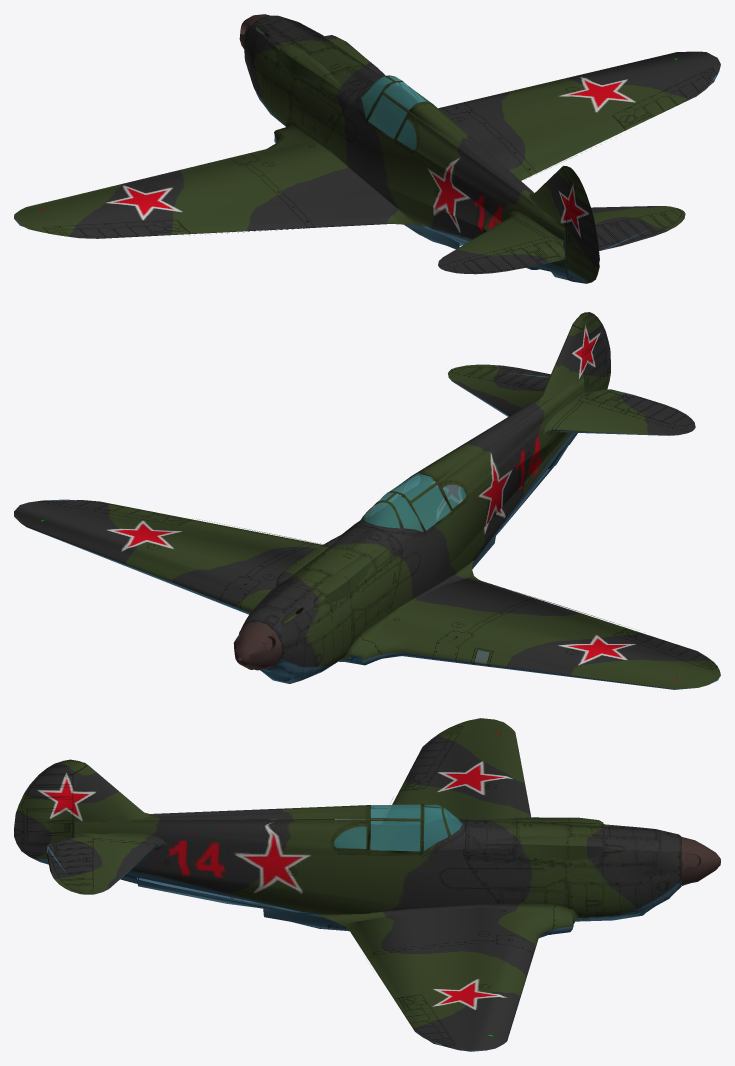
File: lagg3LOD1.glb
3 views of the same model, one above another, from view 1: azimuth 30°, elevation 25°; view 2: azimuth 150°, elevation 25°; view 3: azimuth 270°, elevation 25° (orthographic). The views are drawn at different scales.
Visible parts, largest first — view 1: Line_R02-FACES.001; view 2: Line_R02-FACES.001; view 3: Line_R02-FACES.001.
Boxes of the visible parts, x1,y1,x2,y2 form: Line_R02-FACES.001: (14,14,720,283); Line_R02-FACES.001: (14,312,720,689); Line_R02-FACES.001: (14,718,720,1051).
Bounding box in the file's own units: 12.87 × 3.01 × 11.56.
14 materials, 10 textured.
